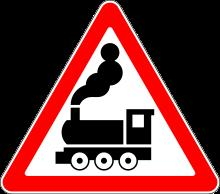Barrier Ahead: (9, 12, 212, 189)
